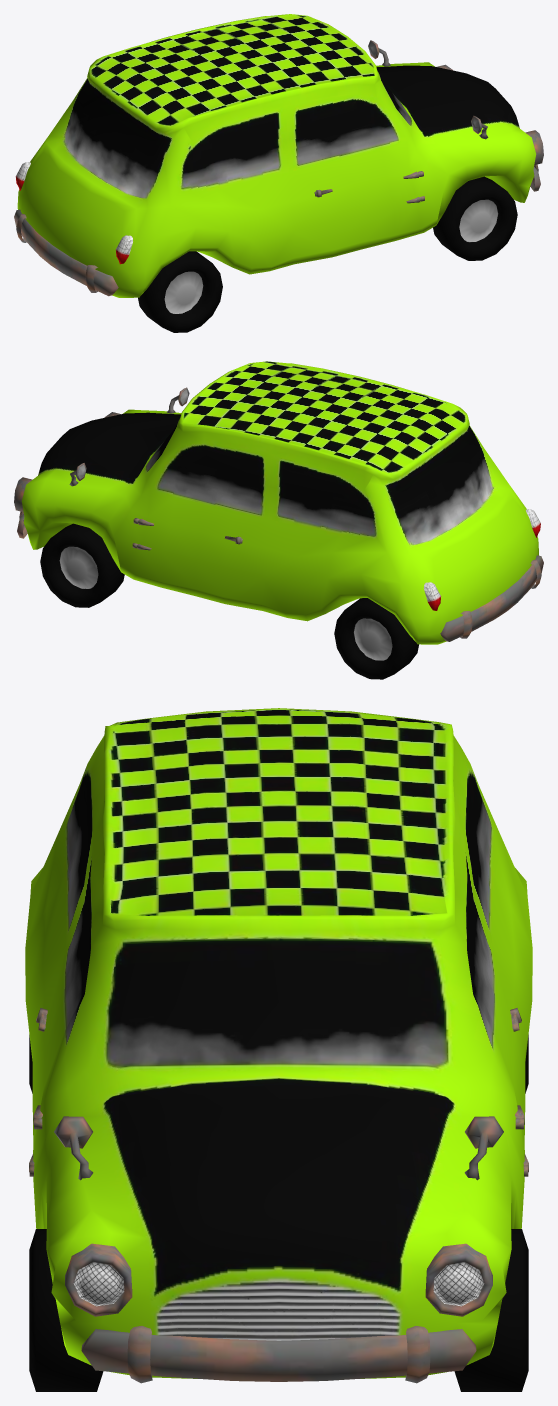
File: cargreenvariant1.glb
3 views of the same model, one above another, from view 1: azimuth 30°, elevation 25°; view 2: azimuth 150°, elevation 25°; view 3: azimuth 270°, elevation 25° (orthographic). The views are drawn at different scales.
Parts seen in each view (by area): view 1: cargreenvariant1; view 2: cargreenvariant1; view 3: cargreenvariant1.
Boxes of the visible parts, x1,y1,x2,y2 form: cargreenvariant1: [14, 14, 543, 332]; cargreenvariant1: [14, 361, 543, 679]; cargreenvariant1: [25, 708, 532, 1391].
Bounding box in the file's own units: 8.13 × 3.46 × 3.93.
Materials: 1 (1 with a texture image).
